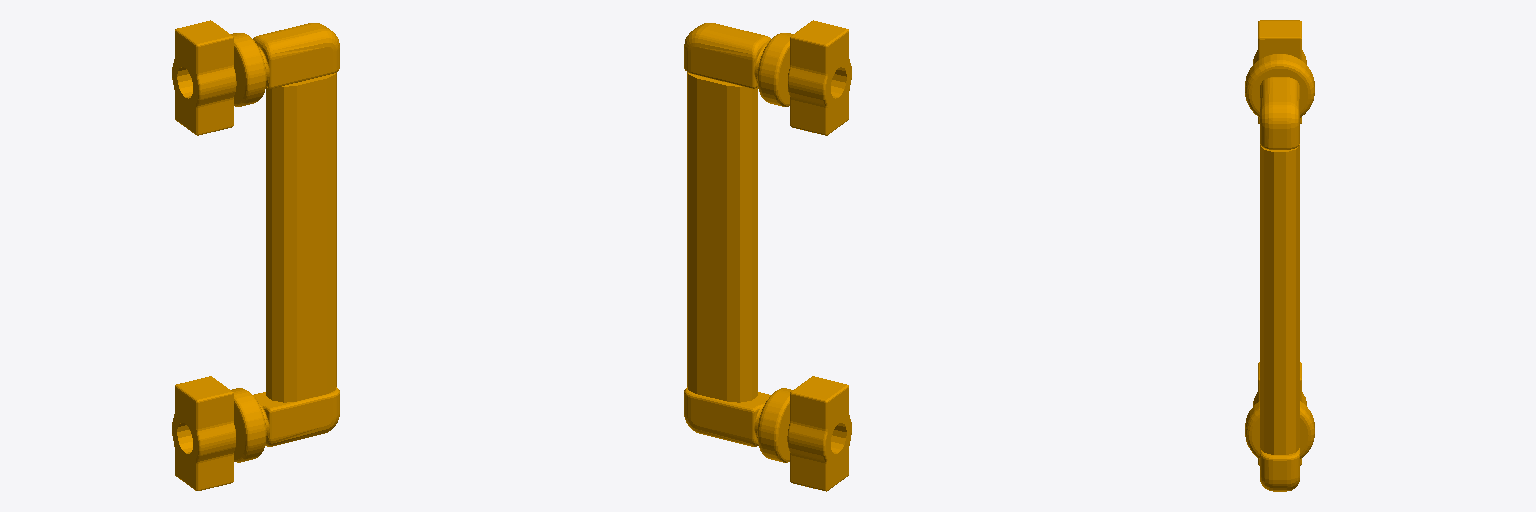
robot.urdf — handrail:
<?xml version="1.0"?>

<!-- Copyright (c) 2017, United States Government, as represented by the     -->
<!-- Administrator of the National Aeronautics and Space Administration.     -->
<!--                                                                         -->
<!-- All rights reserved.                                                    -->
<!--                                                                         -->
<!-- The Astrobee platform is licensed under the Apache License, Version 2.0 -->
<!-- (the "License"); you may not use this file except in compliance with    -->
<!-- the License. You may obtain a copy of the License at                    -->
<!--                                                                         -->
<!--     http://www.apache.org/licenses/LICENSE-2.0                          -->
<!--                                                                         -->
<!-- Unless required by applicable law or agreed to in writing, software     -->
<!-- distributed under the License is distributed on an "AS IS" BASIS,       -->
<!-- WITHOUT WARRANTIES OR CONDITIONS OF ANY KIND, either express or         -->
<!-- implied. See the License for the specific language governing            -->
<!-- permissions and limitations under the License.                          -->

<robot name="handrail" xmlns:xacro="http://www.ros.org/wiki/xacro">
  <link name="body">
    <inertial>
      <mass value="20"/>
      <origin xyz="0 0 0"/>
      <inertia ixx="1" ixy="0" ixz="0" iyy="1" iyz="0" izz="1"/>
    </inertial>
    <visual name="body_visual">
      <origin xyz="0 0 0" rpy="0 0 0" />
      <geometry>
        <mesh filename="package://astrobee_handrail_8_5/meshes/handrail_8_5.dae"/>
      </geometry>
    </visual>
    <collision name="body_collision">
      <origin xyz="0 0 0" rpy="0 0 0" />
      <geometry>
        <mesh filename="package://astrobee_handrail_8_5/meshes/handrail_8_5.dae"/>
      </geometry>
    </collision>
  </link>
  <gazebo>
    <static>true</static>
  </gazebo>
</robot>

--- What the picture shows (computed from the rendered views, not written in the file) ---
3 views of the same robot in one strip: view 1: azimuth 30°, elevation 25°; view 2: azimuth 150°, elevation 25°; view 3: azimuth 270°, elevation 25° (orthographic).
Model handrail with 1 links and 0 joints (none), rooted at body, posed all joints at 0.
Visible links, largest first — view 1: body; view 2: body; view 3: body.
Link boxes in pixels (x1=…): body: x1=172, y1=20, x2=339, y2=490; body: x1=684, y1=20, x2=851, y2=491; body: x1=1245, y1=20, x2=1314, y2=491.
Size in the robot's own frame: 0.0782 by 0.0331 by 0.2235 metres.
Meshes: 1 distinct files referenced, 1 mesh visuals loaded (1 Collada DAE).
